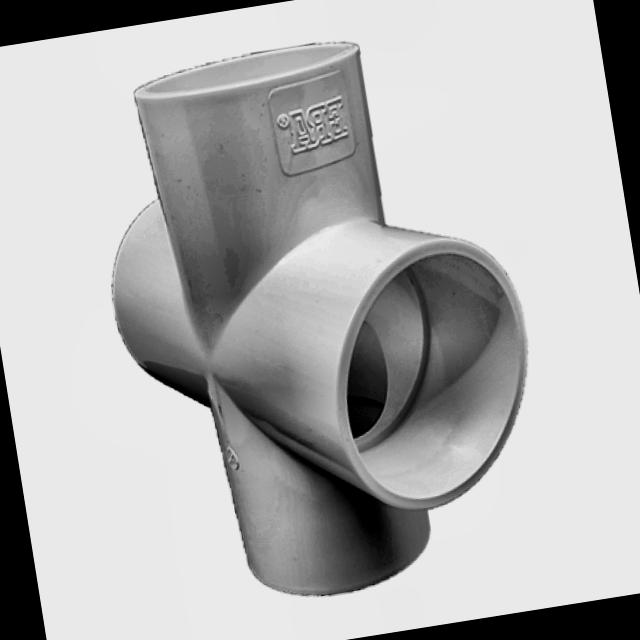EQUALCROSS: (109, 40, 531, 600)
